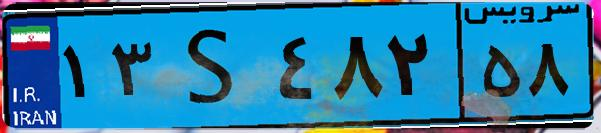1: (57, 26, 110, 100)
2: (385, 28, 445, 110)
3: (110, 28, 158, 98)
4: (270, 28, 330, 110)
5: (475, 38, 525, 113)
8: (330, 28, 385, 110), (525, 38, 570, 115)
S: (158, 12, 270, 120)
